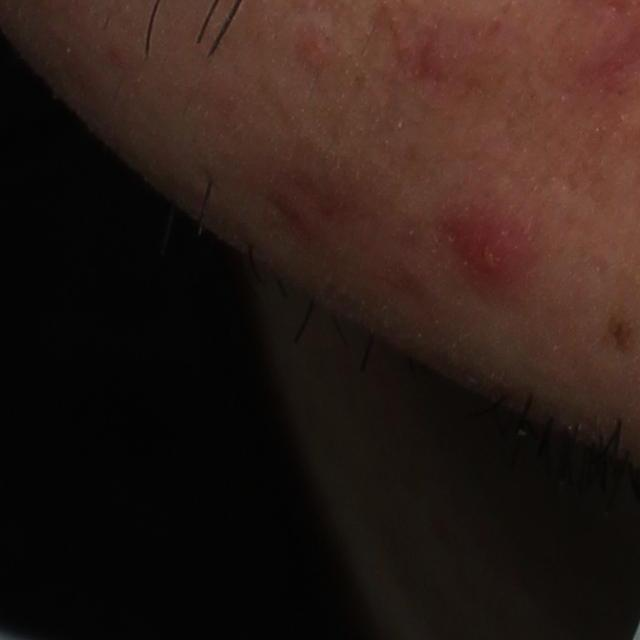papule: (447, 210, 523, 291), (299, 29, 344, 75)
